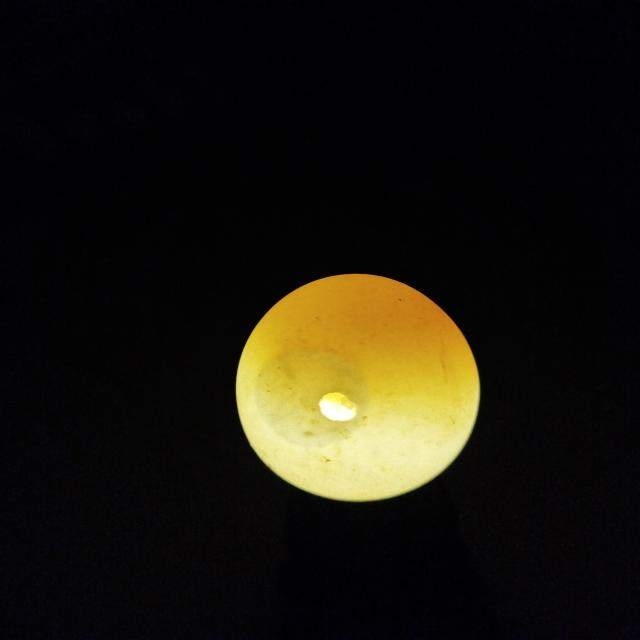Camara de Ar: (254, 350, 369, 447)
